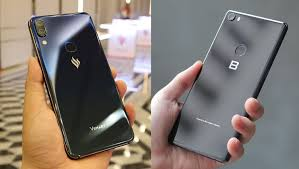bphone: (172, 2, 289, 162)
vsmart: (27, 7, 137, 161)
